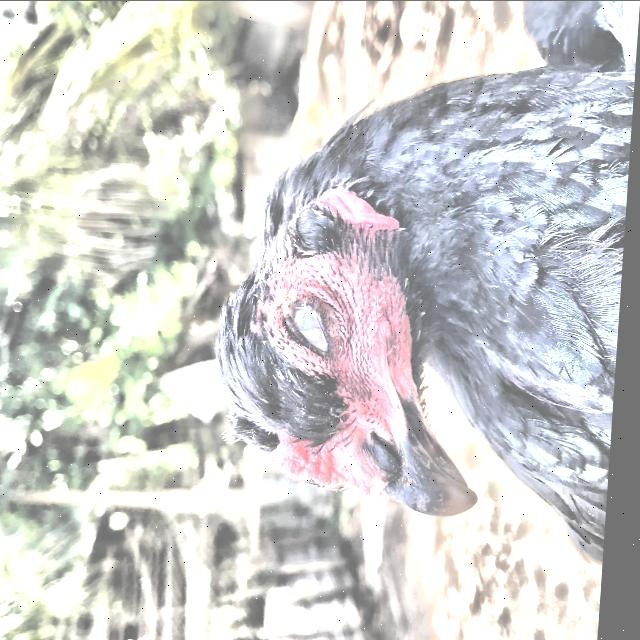Coryza: (179, 1, 640, 588)
